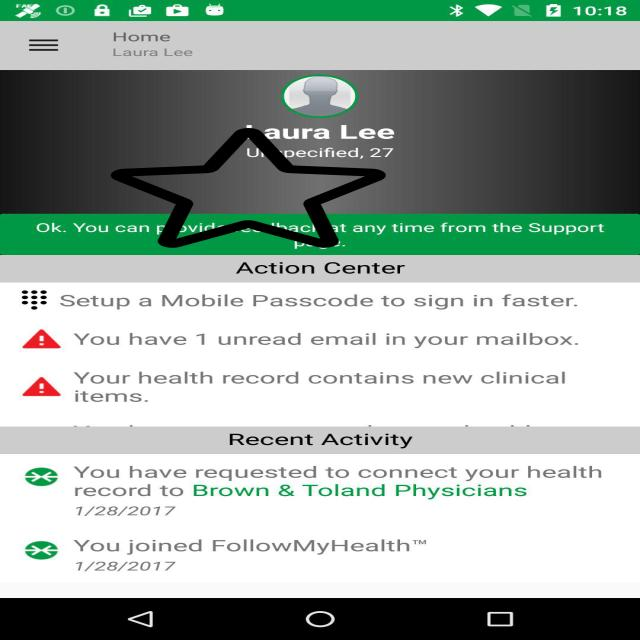forced continuity: (111, 126, 386, 250)
